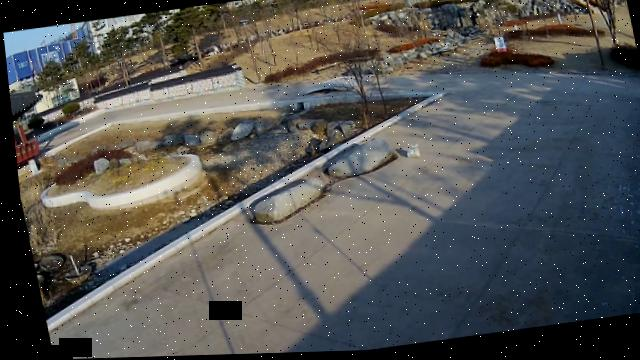trash: (400, 145, 417, 160)
